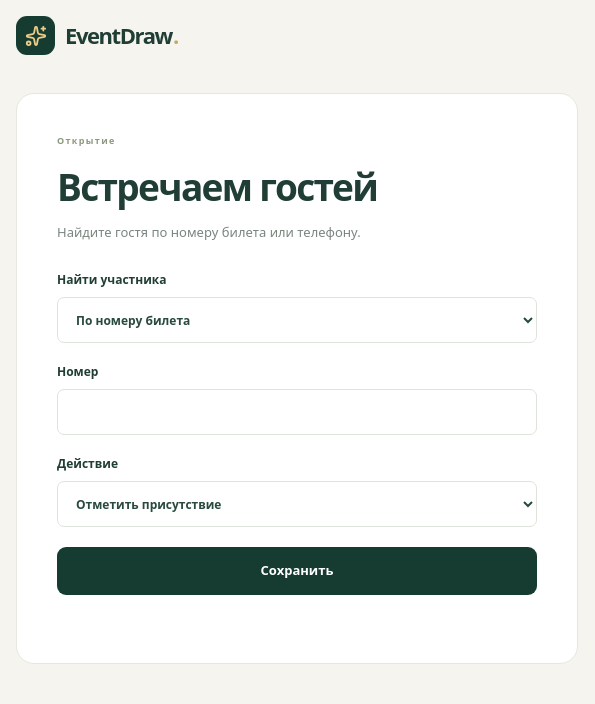
Test: staff check-in › marks a ticket present and refreshes event and screen data
The width and height of the screenshot is (595, 704).
Step 1. Type "57" into the number field labelled "Номер" → [297, 412], box [57,390,537,436]
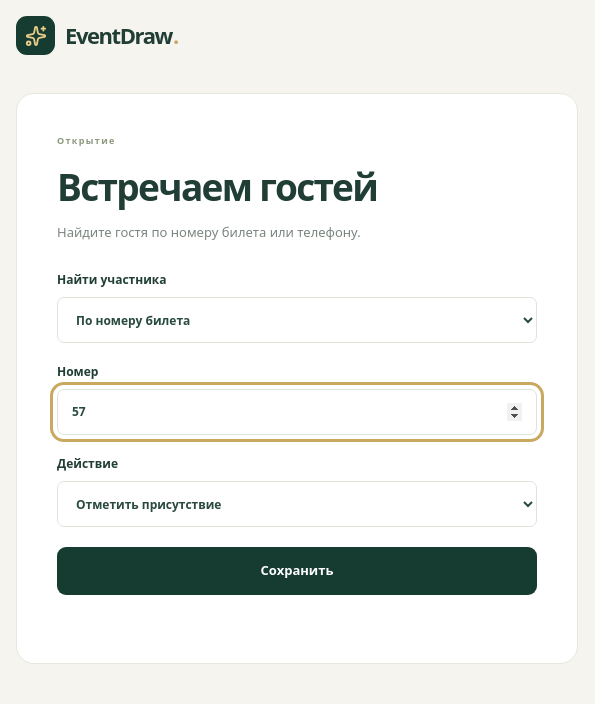
Step 2. Click the button "Сохранить" → [297, 571], box [57,548,537,595]
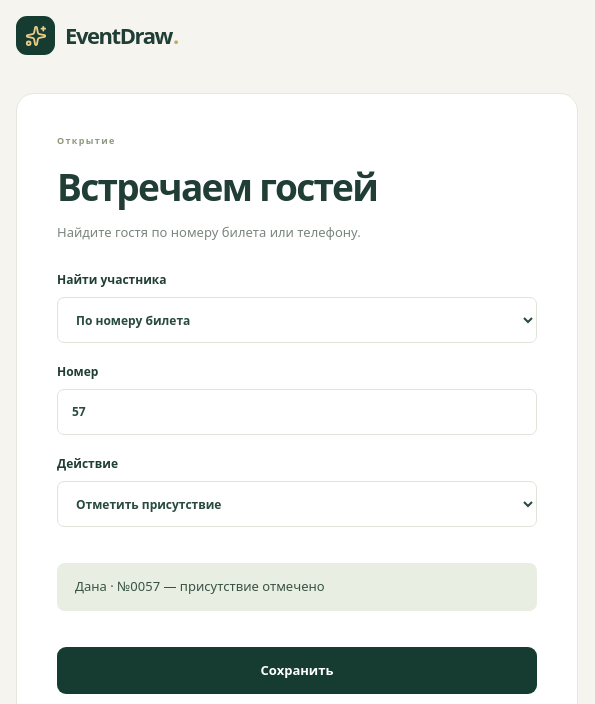
Check: the text "Дана · №0057 — присутствие отмечено" is shown, box [57,564,537,611]
